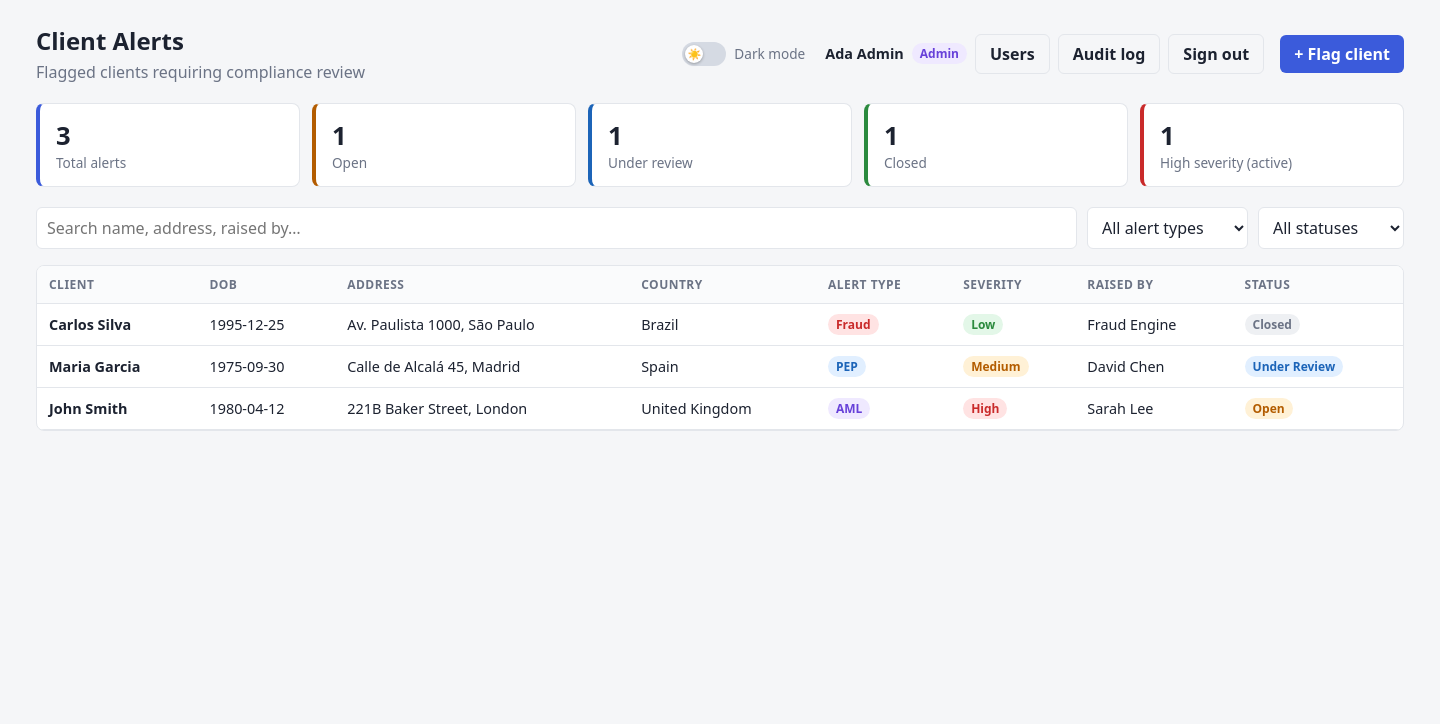
Scenario: detail panel › shows the full client details when a row is clicked
Expected: the text "John Smith" is shown, [37,388,197,430]
Click the text "Maria Garcia" at (117, 366), box [37,346,197,388]
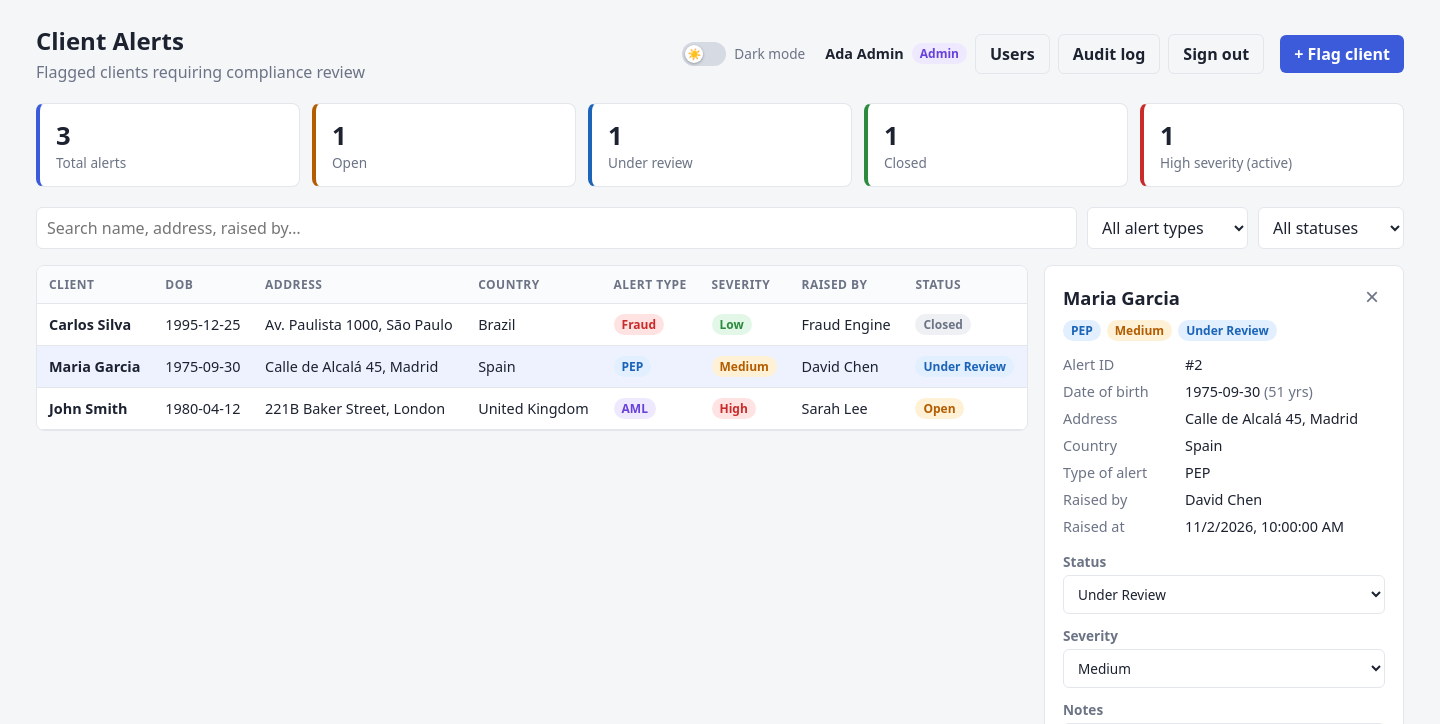
Expected: the heading "Maria Garcia" is shown, [1063,284,1180,310]
Expected: the text "1975-09-30 (51 yrs)" is shown, [1185,382,1313,401]
Expected: the text "(51 yrs)" is shown, [1264,382,1313,401]
